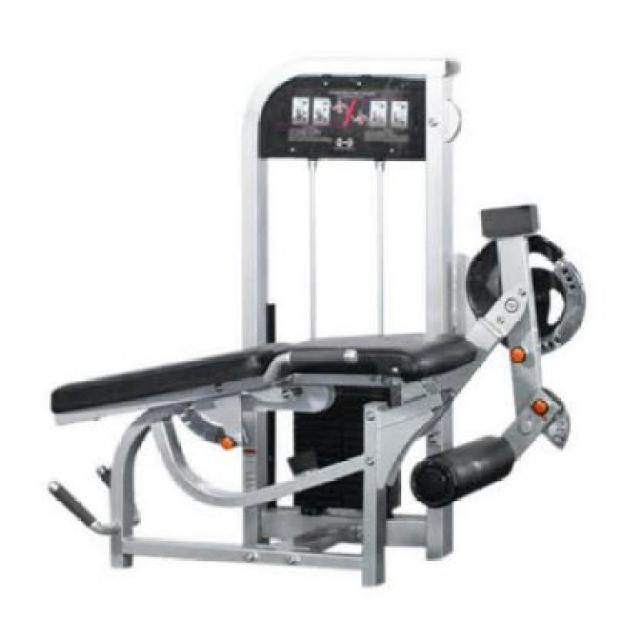reg curl machine: (52, 68, 586, 586)
